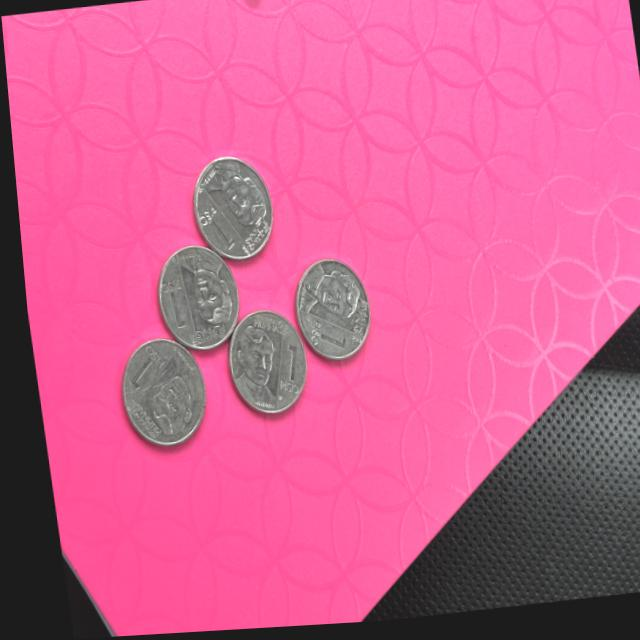1_New_Front: (110, 339, 165, 393), (266, 335, 303, 403), (188, 205, 231, 262), (155, 275, 186, 335), (304, 325, 349, 356)
